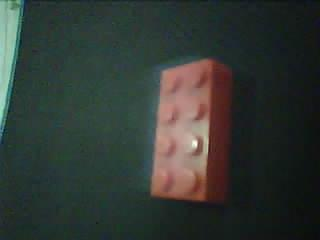lego: (148, 59, 234, 204)
